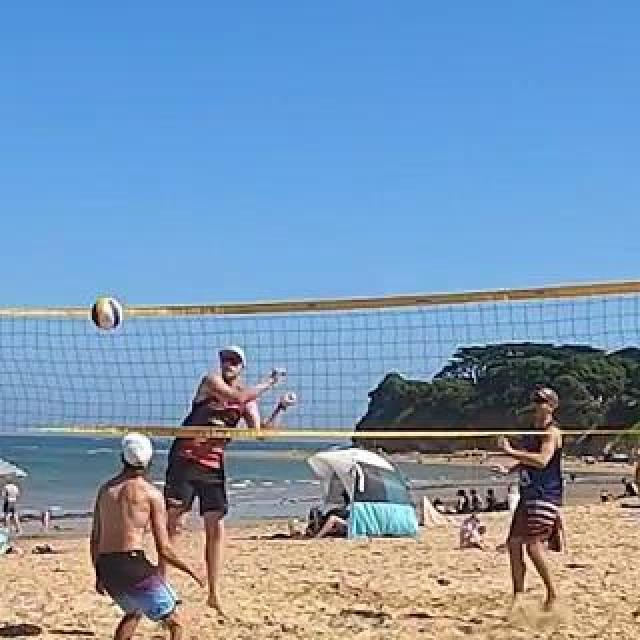volleyball: (92, 297, 122, 329)
